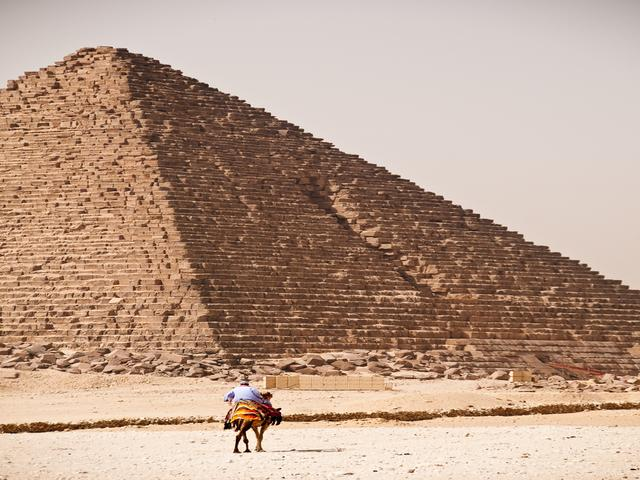camel: (222, 389, 290, 452)
